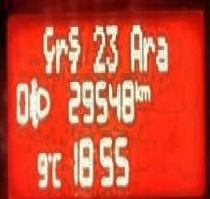0: (15, 78, 28, 126)
1: (71, 133, 78, 190)
2: (92, 23, 105, 74), (67, 78, 80, 124)
3: (104, 19, 119, 69)
4: (108, 78, 121, 122)
5: (113, 132, 128, 187), (98, 133, 112, 188), (94, 77, 107, 123)
8: (78, 133, 92, 186), (121, 78, 134, 121)
9: (81, 76, 93, 121), (36, 151, 47, 188)
X: (68, 21, 81, 73), (128, 21, 141, 71), (42, 25, 54, 73), (156, 34, 169, 75), (54, 33, 67, 71), (141, 33, 153, 71), (51, 148, 62, 187), (141, 80, 152, 103), (134, 76, 139, 103)
